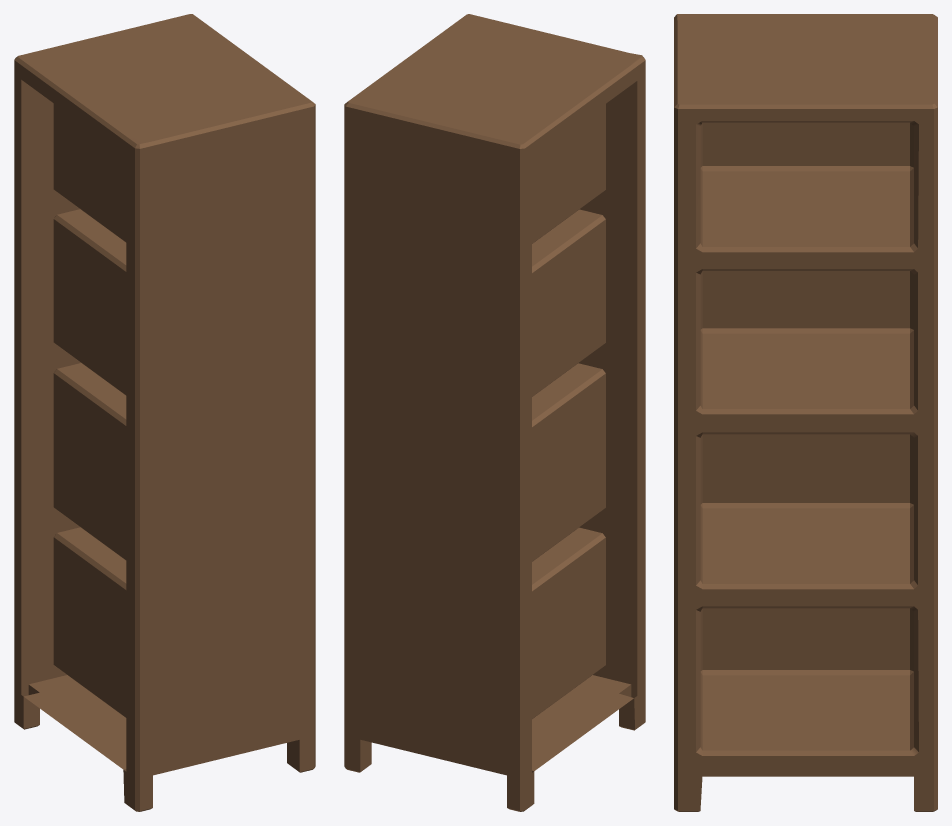
File: Shelf.fbx
3 views of the same model, side by side, from view 1: azimuth 30°, elevation 25°; view 2: azimuth 150°, elevation 25°; view 3: azimuth 270°, elevation 25° (orthographic). The views are drawn at different scales.
Visible parts, largest first — view 1: Shelf; view 2: Shelf; view 3: Shelf.
Part boxes in pixels (<box>): Shelf: <box>14,14,315,811</box>; Shelf: <box>344,14,645,811</box>; Shelf: <box>674,14,937,811</box>.
Size of the model in its own units: 2.45 by 8.66 by 2.93.
